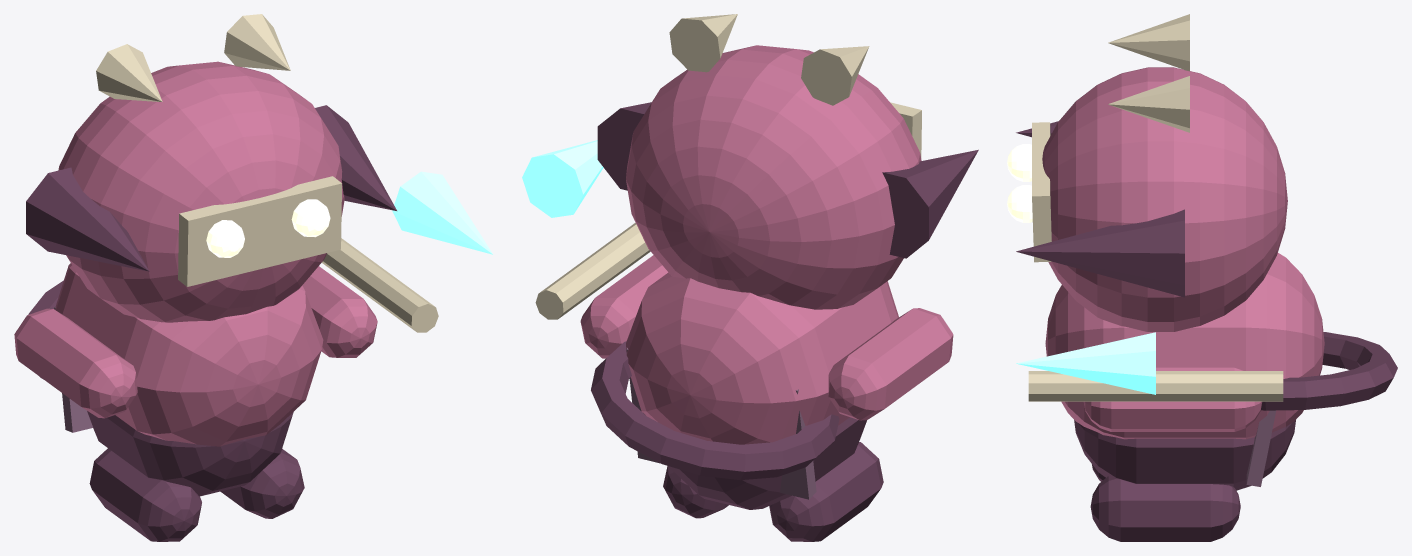
Rendered from monster-imp-sd-toon.glb.
The picture shows the model from 3 angles, left to right: view 1: azimuth 30°, elevation 25°; view 2: azimuth 150°, elevation 25°; view 3: azimuth 270°, elevation 25°; orthographic projection. The views are drawn at different scales.
Visible parts, largest first — view 1: head, body, mask, armL, pelvis, earL, legL, signature, armR, weapon, earR, legR (+5 smaller); view 2: head, body, tail, armL, legL, earL, signature, pelvis, weapon, armR, hornL, hornR (+4 smaller); view 3: head, body, pelvis, legR, earR, weapon, tail, armR, signature, hornL, hornR, mask (+3 smaller).
Boxes of the visible parts, bbox=[...] form: head: bbox=[58, 61, 344, 322]; body: bbox=[55, 263, 323, 446]; mask: bbox=[178, 176, 341, 286]; armL: bbox=[14, 308, 137, 418]; pelvis: bbox=[87, 411, 293, 496]; earL: bbox=[26, 167, 149, 271]; legL: bbox=[89, 448, 201, 541]; signature: bbox=[392, 171, 493, 254]; armR: bbox=[302, 266, 377, 357]; weapon: bbox=[321, 238, 438, 332]; earR: bbox=[315, 105, 396, 210]; legR: bbox=[220, 449, 304, 518]; head: bbox=[626, 45, 921, 309]; body: bbox=[626, 272, 898, 444]; tail: bbox=[591, 341, 839, 480]; armL: bbox=[828, 308, 953, 420]; legL: bbox=[769, 442, 883, 541]; earL: bbox=[882, 149, 978, 258]; signature: bbox=[522, 140, 603, 217]; pelvis: bbox=[668, 417, 866, 509]; weapon: bbox=[535, 223, 650, 319]; armR: bbox=[580, 255, 668, 358]; hornL: bbox=[801, 46, 869, 105]; hornR: bbox=[669, 14, 737, 72]; head: bbox=[1042, 67, 1287, 331]; body: bbox=[1045, 253, 1324, 439]; pelvis: bbox=[1074, 420, 1295, 490]; legR: bbox=[1090, 476, 1240, 541]; earR: bbox=[1016, 209, 1184, 297]; weapon: bbox=[1028, 371, 1283, 401]; tail: bbox=[1261, 332, 1397, 410]; armR: bbox=[1083, 367, 1262, 431]; signature: bbox=[1016, 332, 1155, 394]; hornL: bbox=[1108, 14, 1189, 71]; hornR: bbox=[1108, 76, 1189, 132]; mask: bbox=[1032, 122, 1051, 262].
Bounding box in the file's own units: 1.93 × 2.12 × 1.61.
